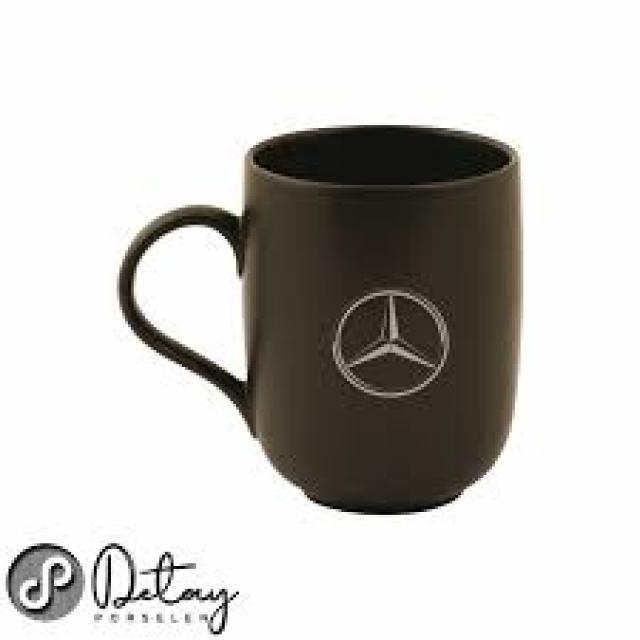taza: (116, 122, 524, 516)
